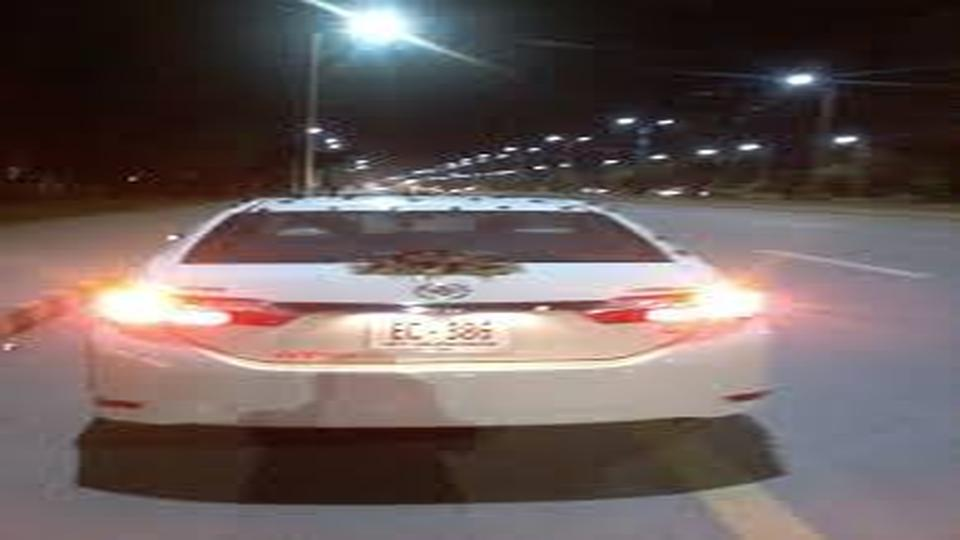NumberPlate: (366, 319, 518, 365)
